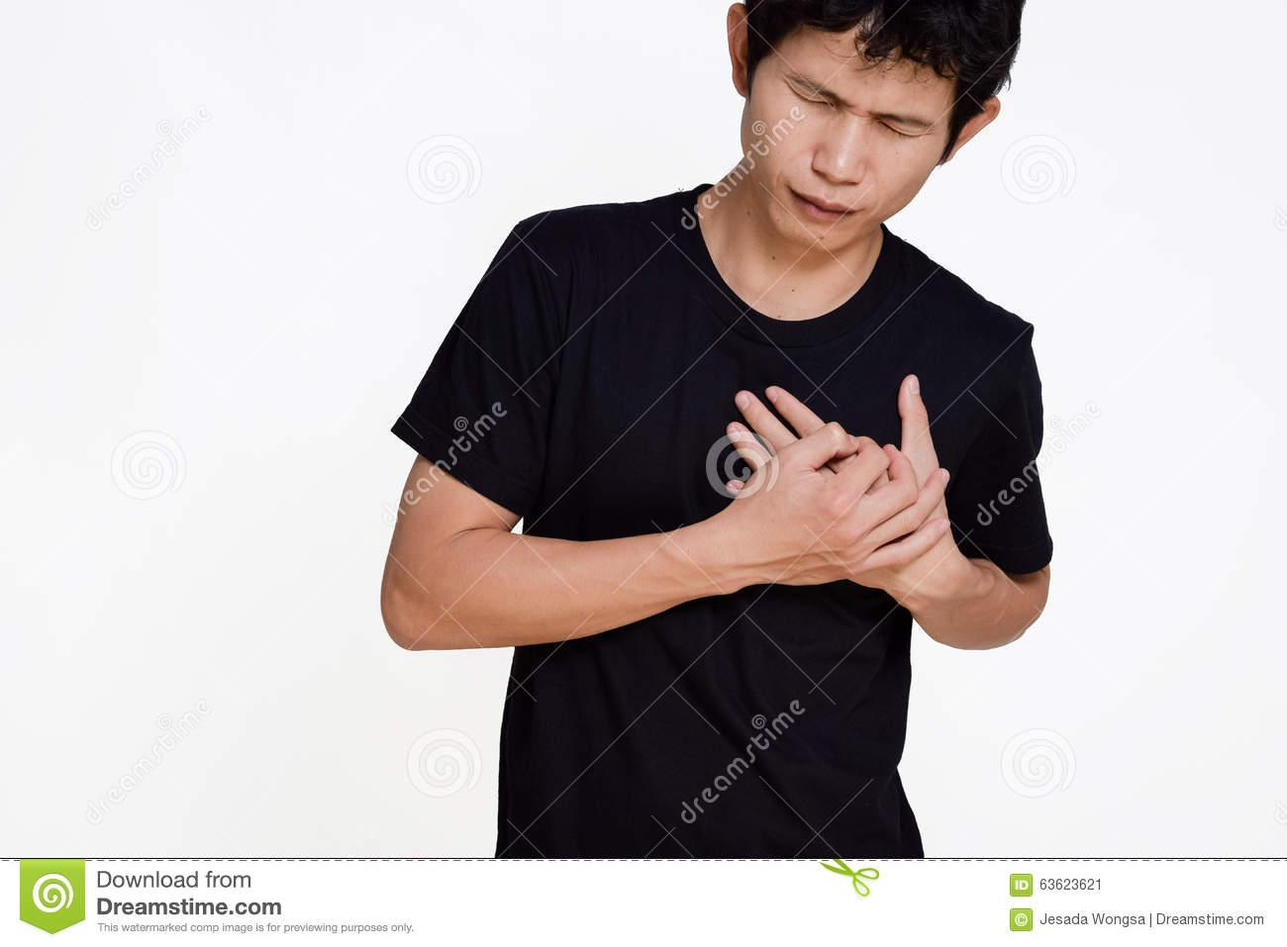pain: (765, 43, 945, 156)
